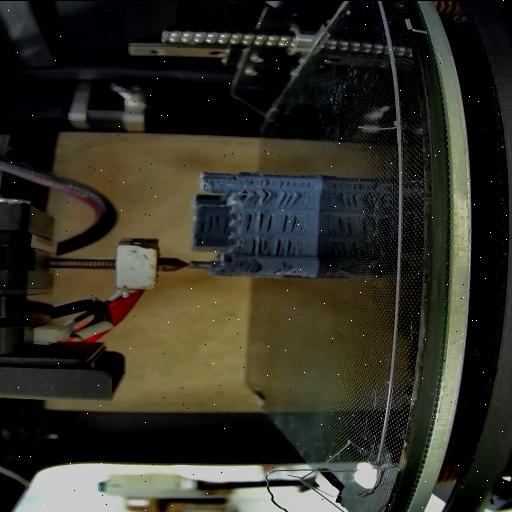cracks: (197, 214, 229, 236), (244, 212, 274, 234), (255, 176, 313, 186), (280, 215, 304, 234), (275, 240, 301, 256), (252, 188, 272, 207), (280, 191, 302, 207), (248, 236, 266, 254), (238, 263, 264, 273), (272, 266, 284, 277), (224, 174, 238, 180)
